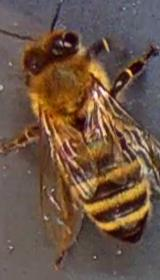varroa_mite: (51, 136, 79, 164)
